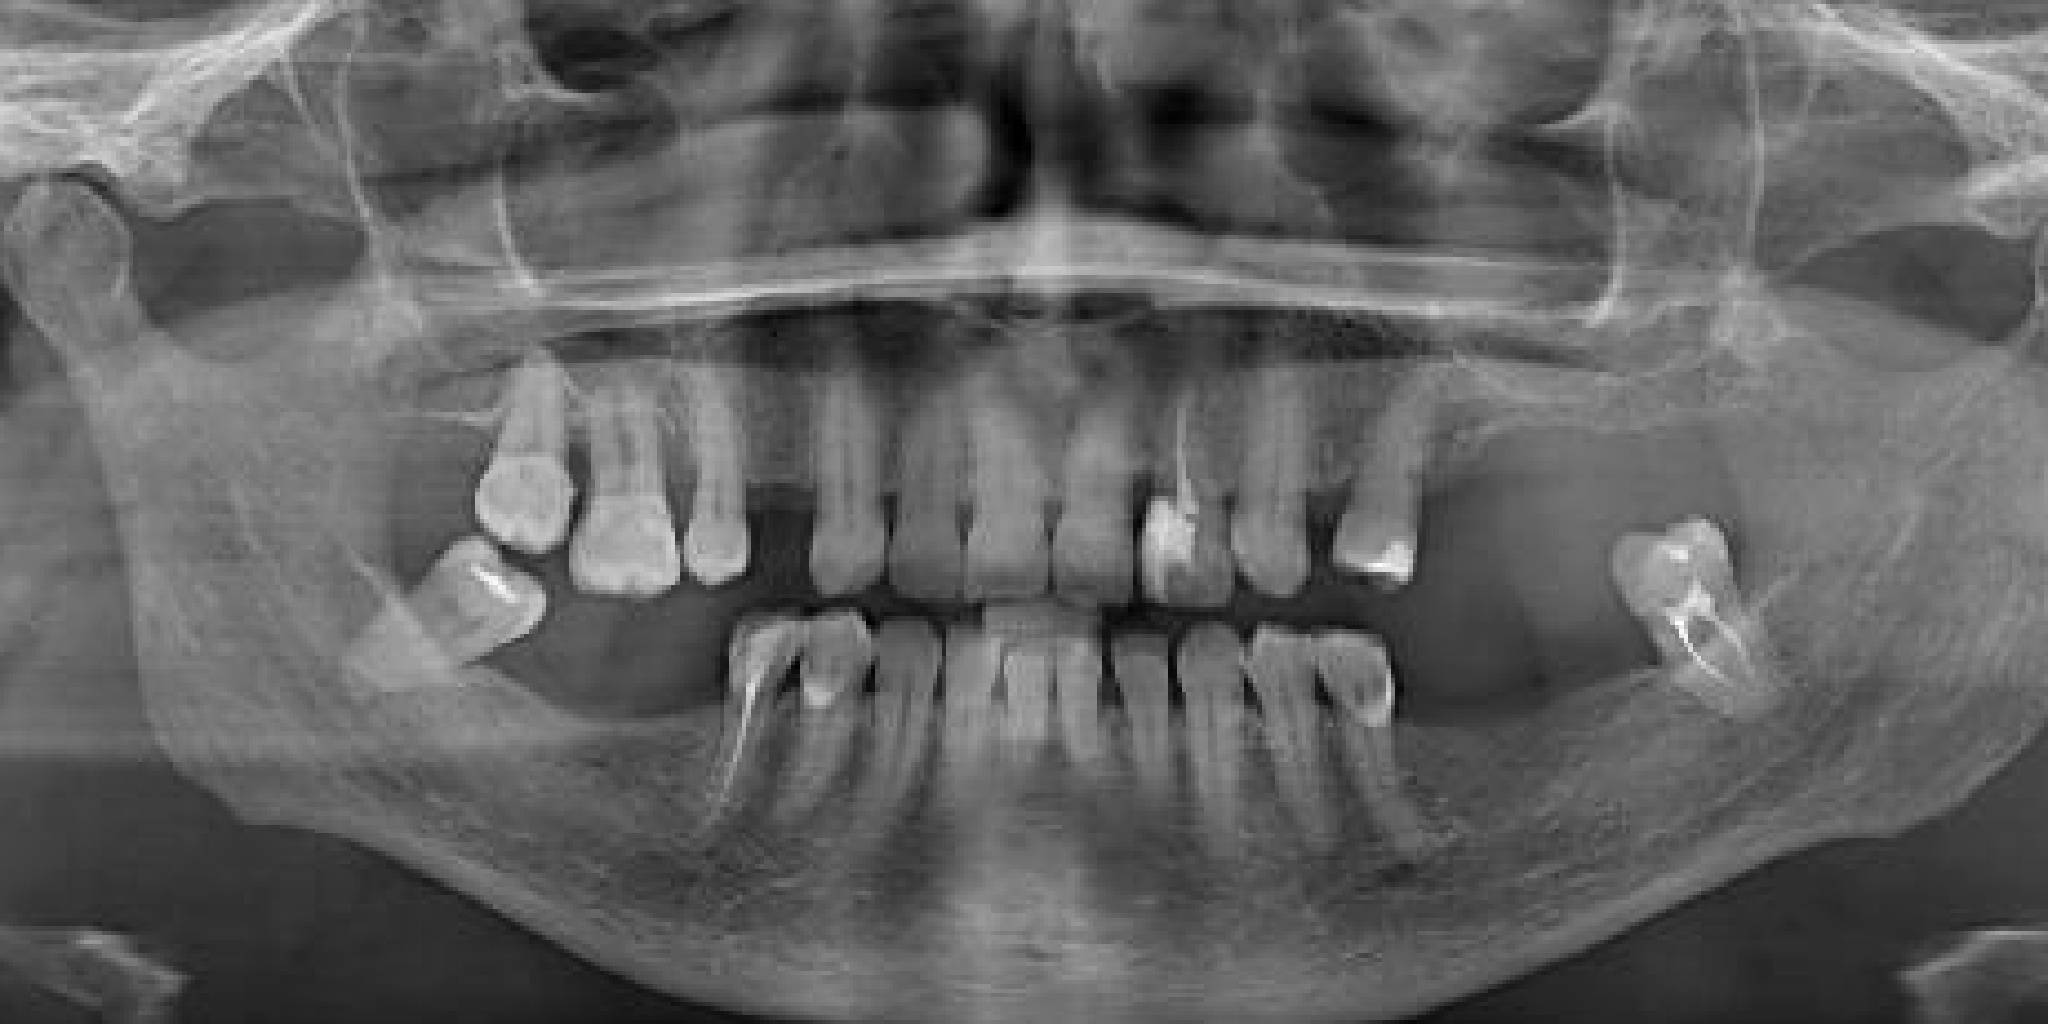Tooth: (1526, 421, 1898, 866), (247, 428, 616, 875), (725, 539, 1038, 984), (588, 515, 891, 953), (1254, 232, 1545, 669), (673, 521, 957, 956), (859, 253, 1132, 684), (823, 530, 1091, 957), (974, 259, 1229, 682), (807, 253, 1061, 677), (586, 240, 835, 661), (961, 528, 1208, 950), (716, 248, 963, 669), (899, 526, 1132, 943), (502, 253, 735, 669), (1074, 270, 1301, 684), (1162, 240, 1384, 650), (419, 222, 640, 632)
